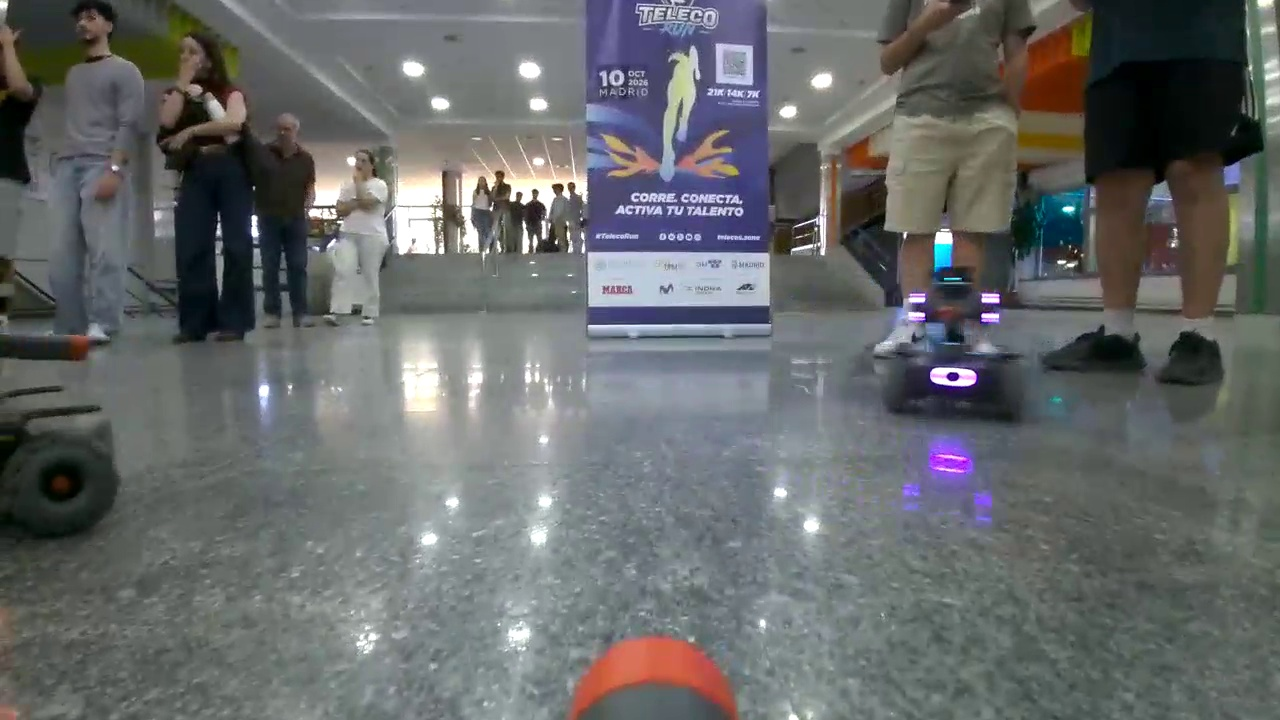robot: (875, 275, 1025, 440), (1, 330, 110, 545)
